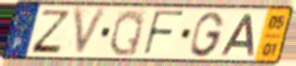A: (218, 13, 256, 58)
F: (141, 9, 187, 58)
G: (188, 10, 226, 59)
Q: (107, 7, 146, 58)
V: (72, 6, 111, 59)
Z: (28, 8, 72, 55)
